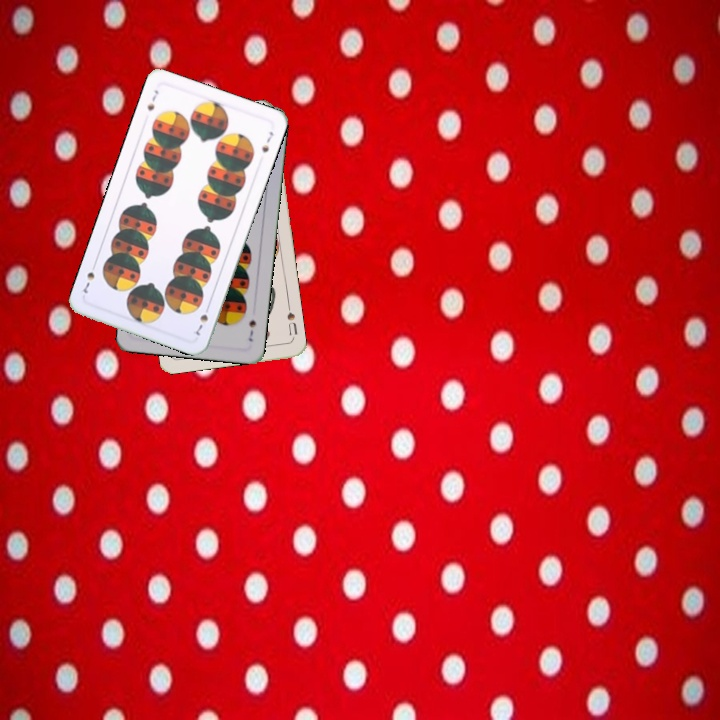S7: (192, 301, 212, 338), (143, 86, 161, 113), (245, 316, 259, 344)
SU: (283, 301, 300, 342)
